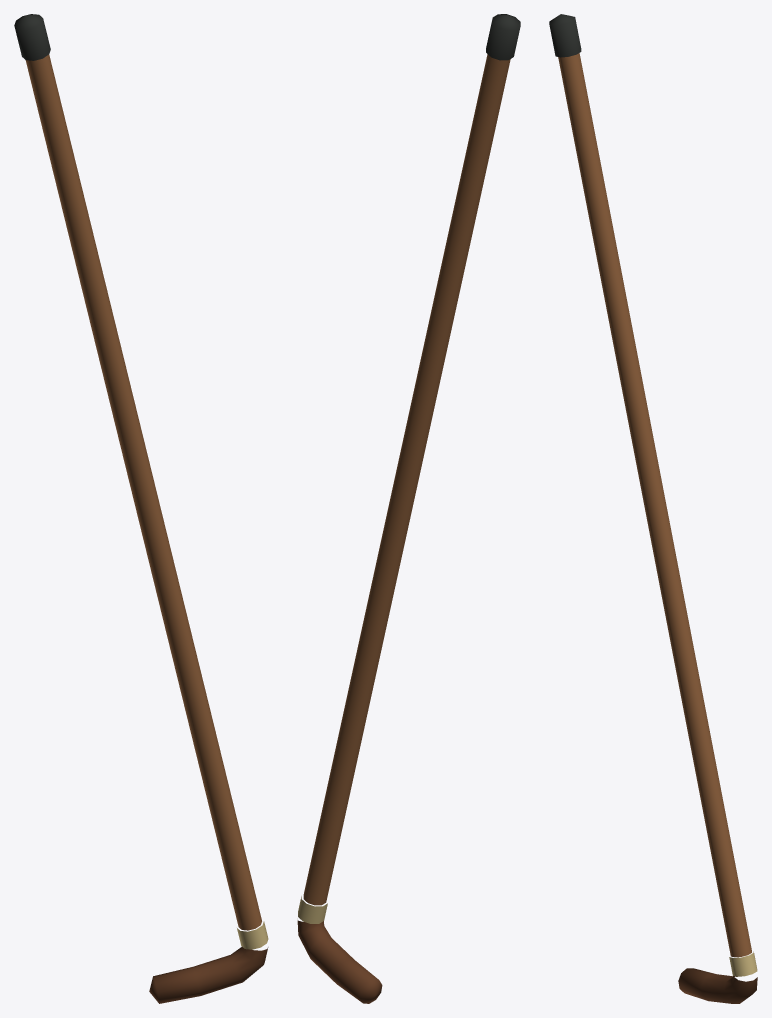
File: old-cane-funcionario-empresa-brasil.glb
3 renders of one model, left to right at view 1: azimuth 30°, elevation 25°; view 2: azimuth 150°, elevation 25°; view 3: azimuth 330°, elevation 25°, orthographic. The views are drawn at different scales.
Parts seen in each view (by area): view 1: Acc_Male_Hand_Cane; view 2: Acc_Male_Hand_Cane; view 3: Acc_Male_Hand_Cane.
Boxes of the visible parts, x1,y1,x2,y2 form: Acc_Male_Hand_Cane: [14, 14, 268, 1003]; Acc_Male_Hand_Cane: [297, 14, 520, 1003]; Acc_Male_Hand_Cane: [549, 14, 757, 1003].
Size of the model in its own units: 0.1084 by 0.4498 by 0.0258.
